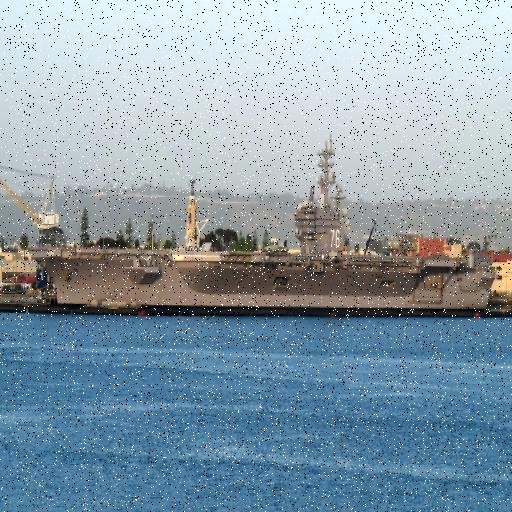Portanaves: (23, 125, 499, 320)
